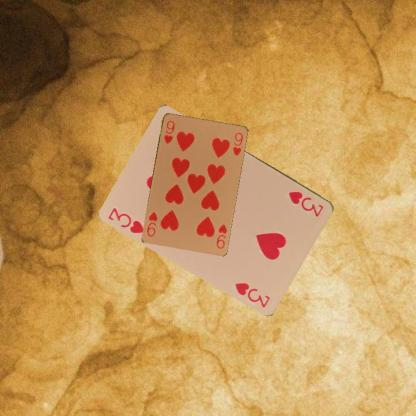3h: (106, 204, 146, 235), (286, 188, 325, 218)
9h: (161, 117, 176, 146), (214, 221, 228, 250)
